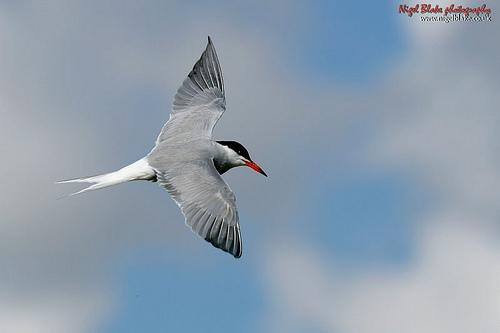bird: (54, 35, 269, 258)
